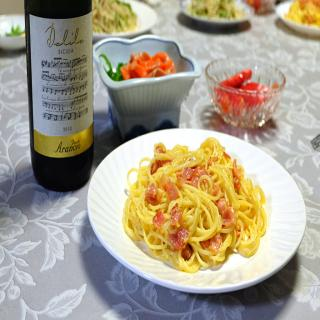Pasta: (120, 134, 275, 270)
